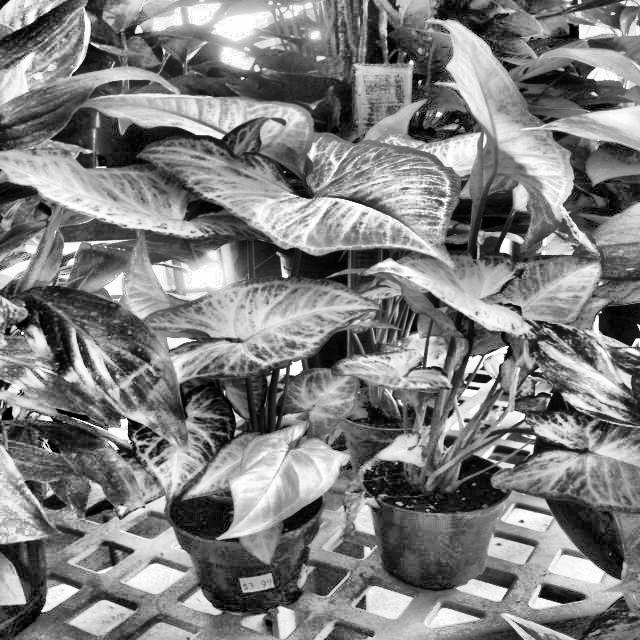plants: (8, 29, 640, 505)
